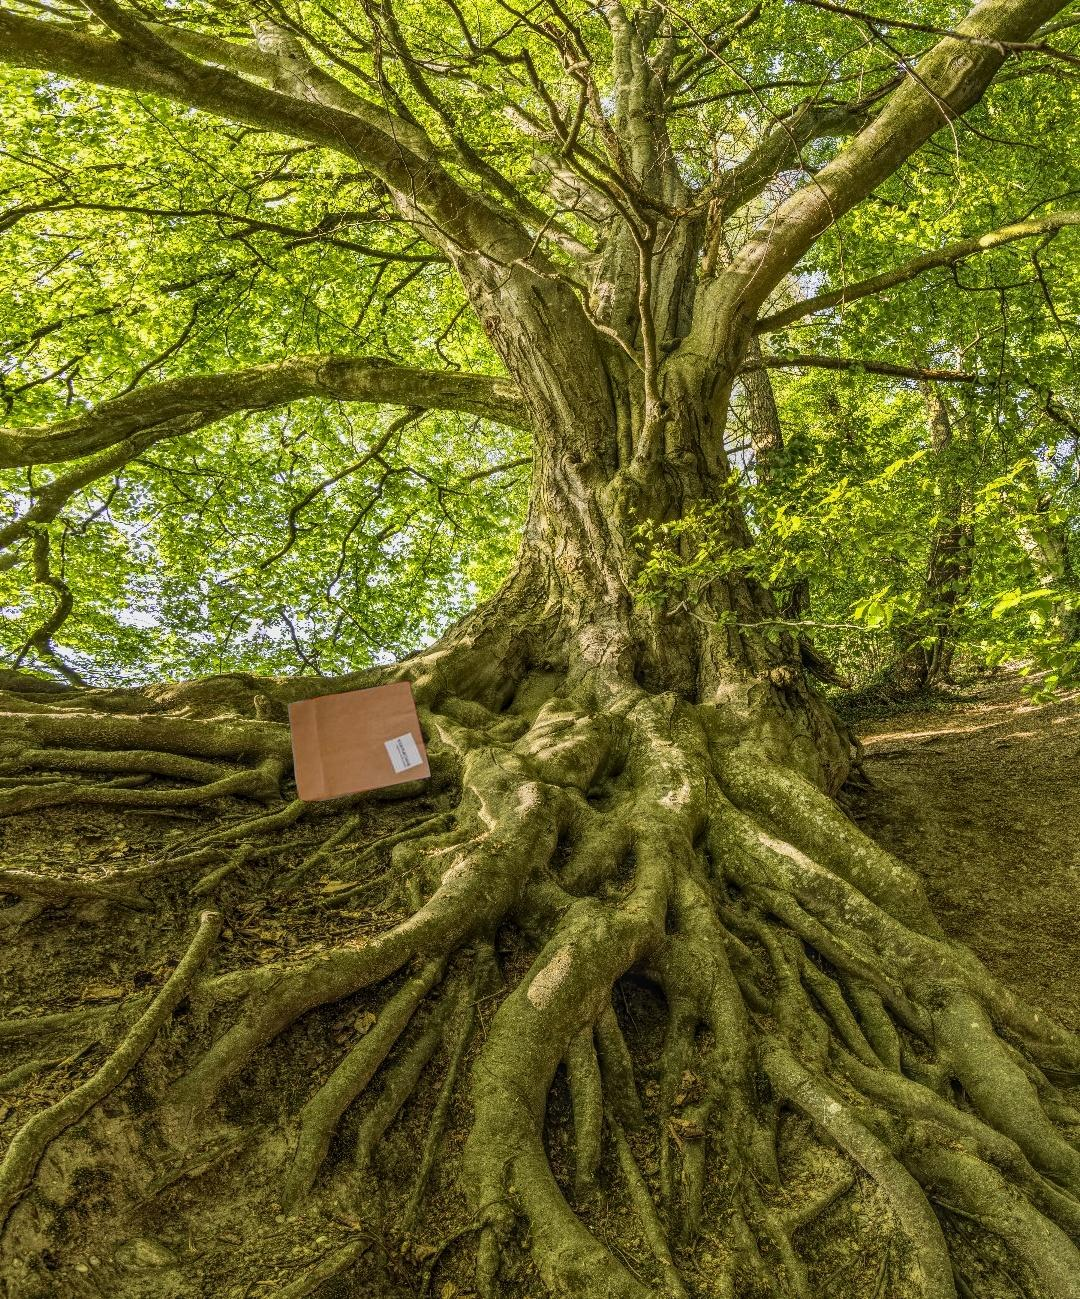paper-bag: (285, 661, 474, 809)
